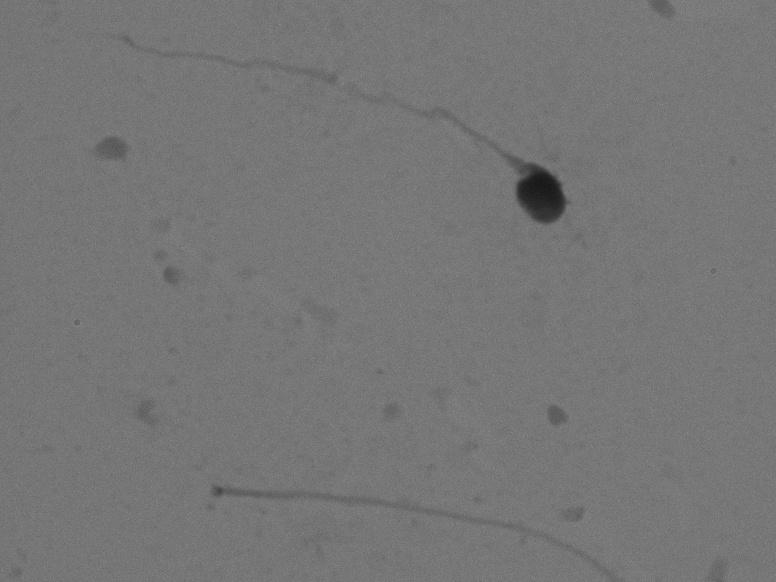Abnormal: (55, 34, 610, 240)
